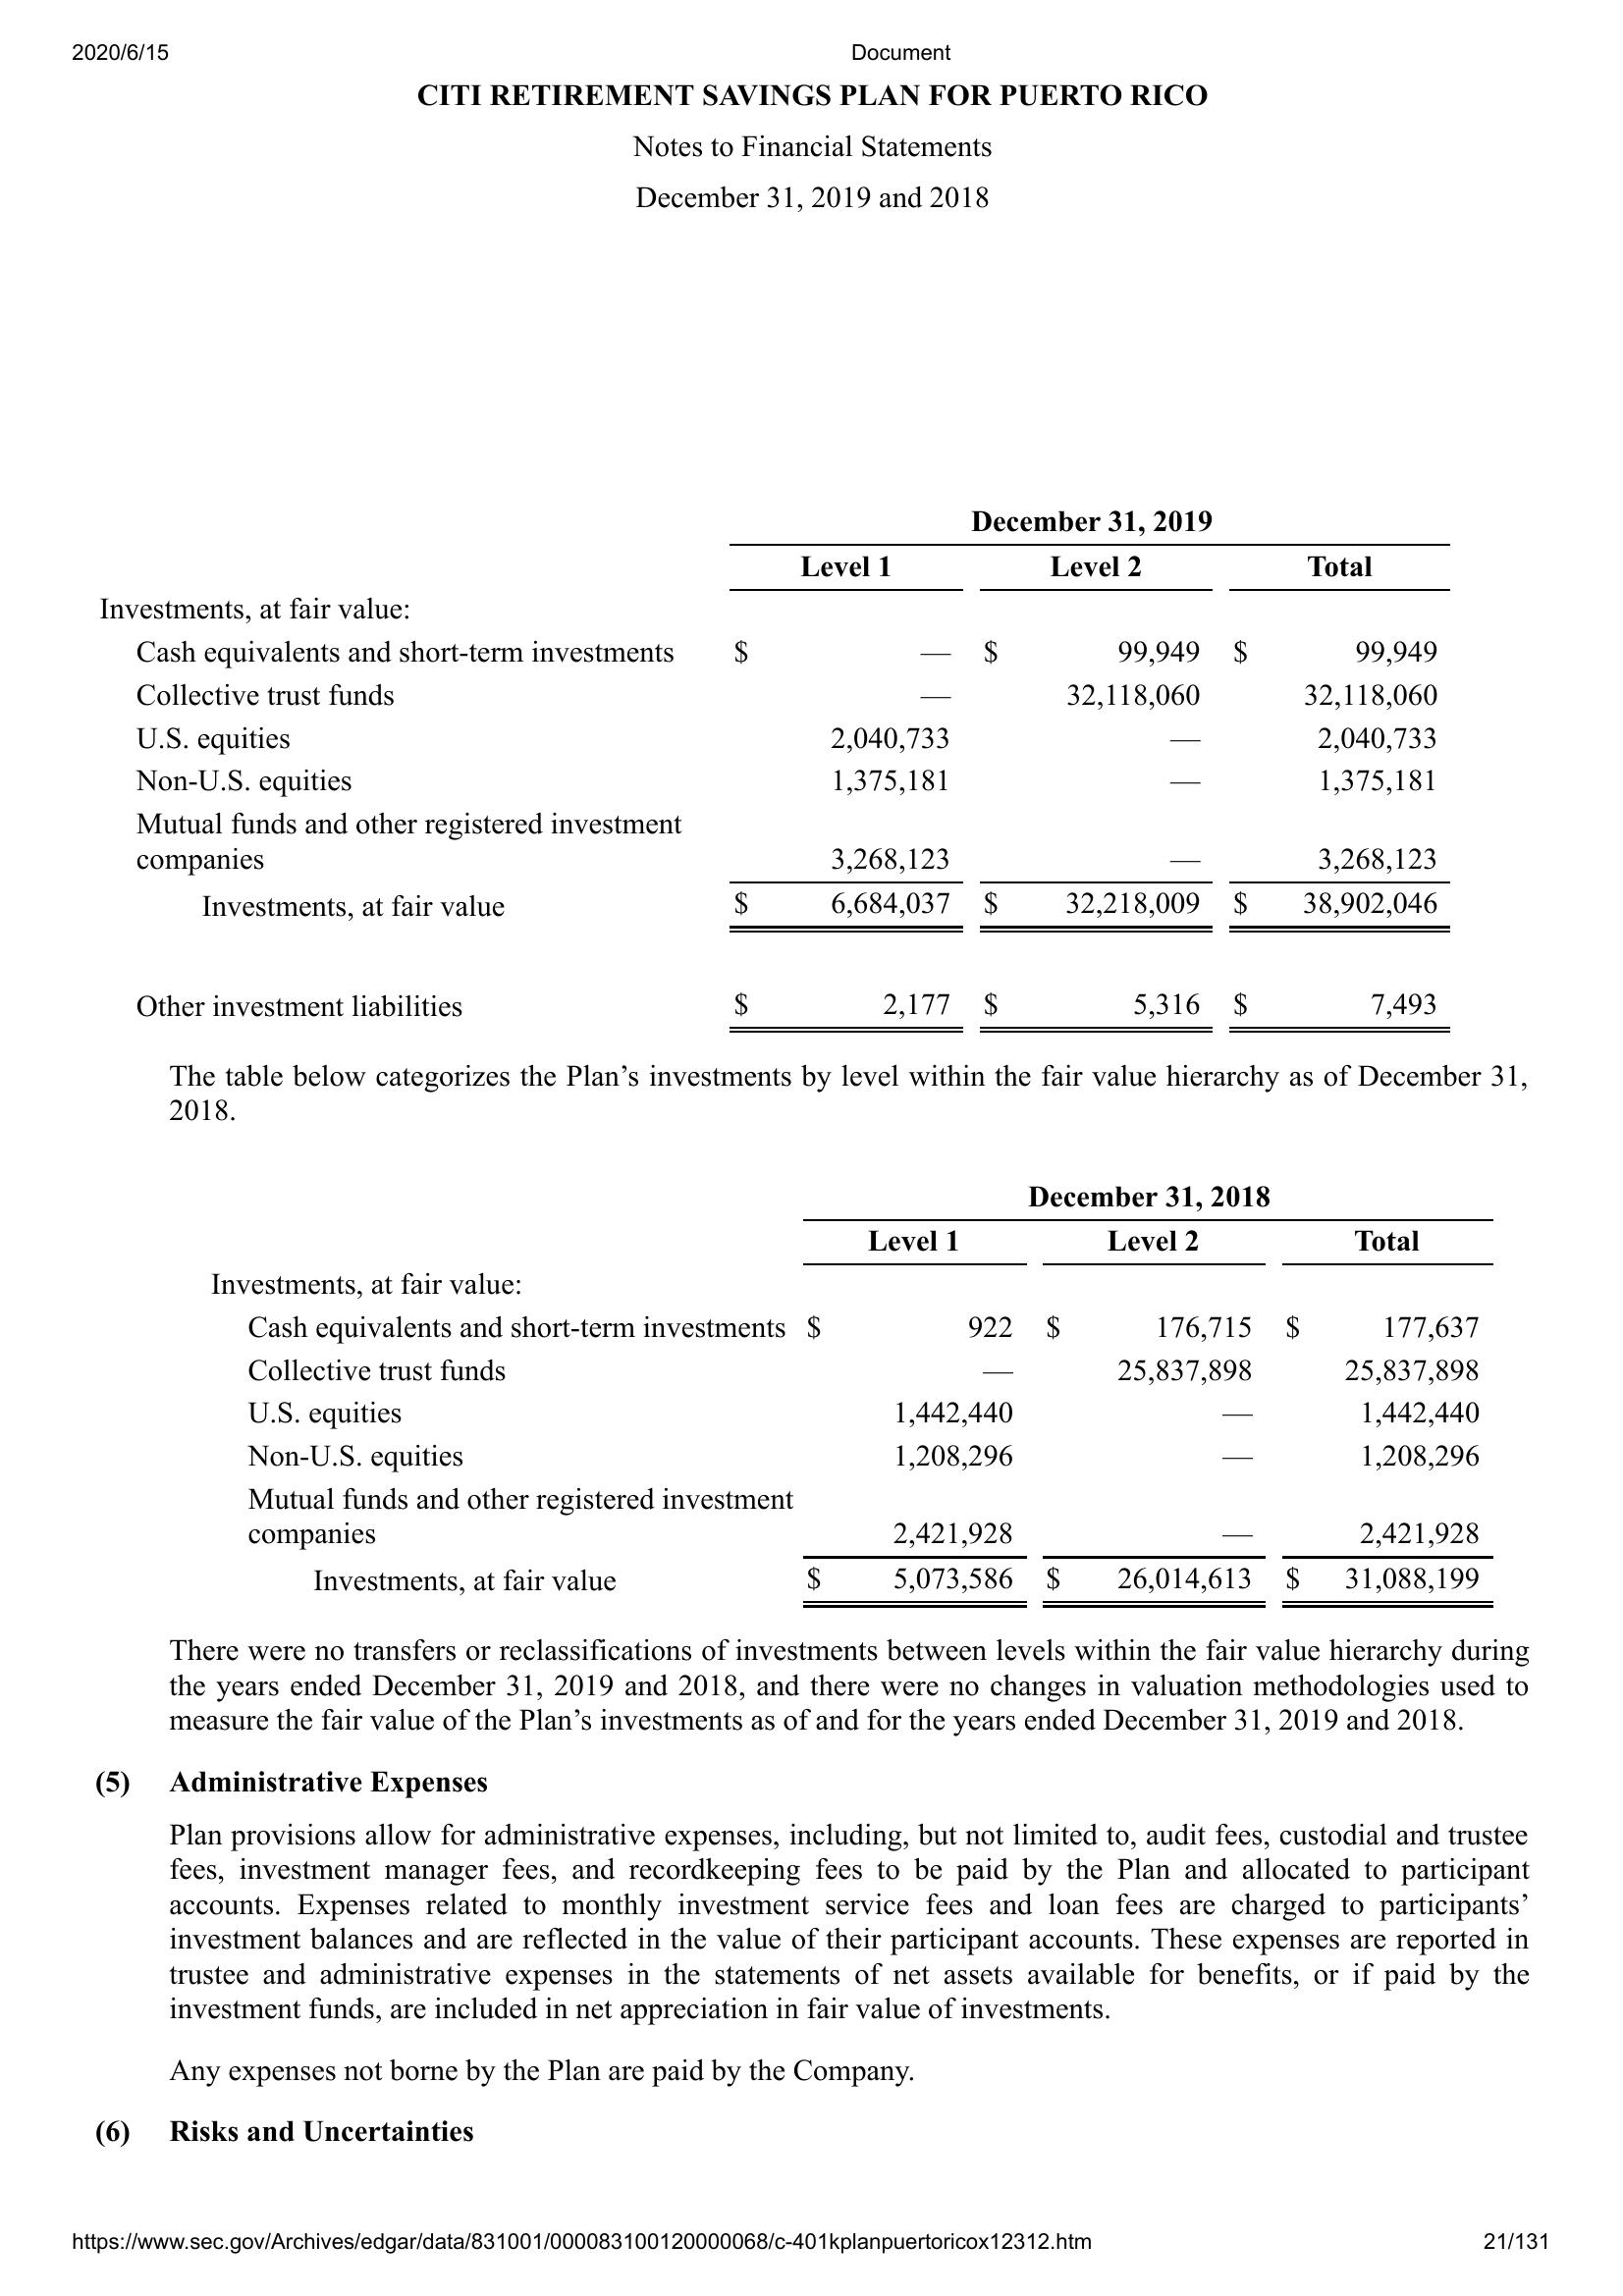table: (95, 504, 1472, 1048), (204, 1178, 1502, 1615)
